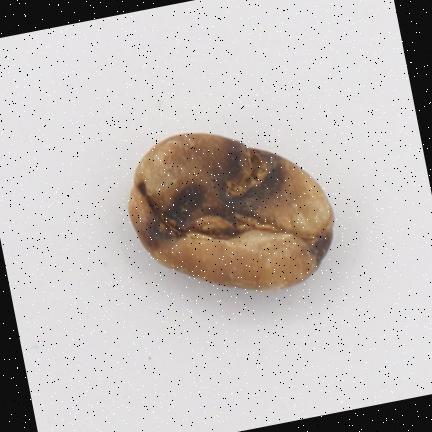partial-black: (129, 133, 333, 289)
